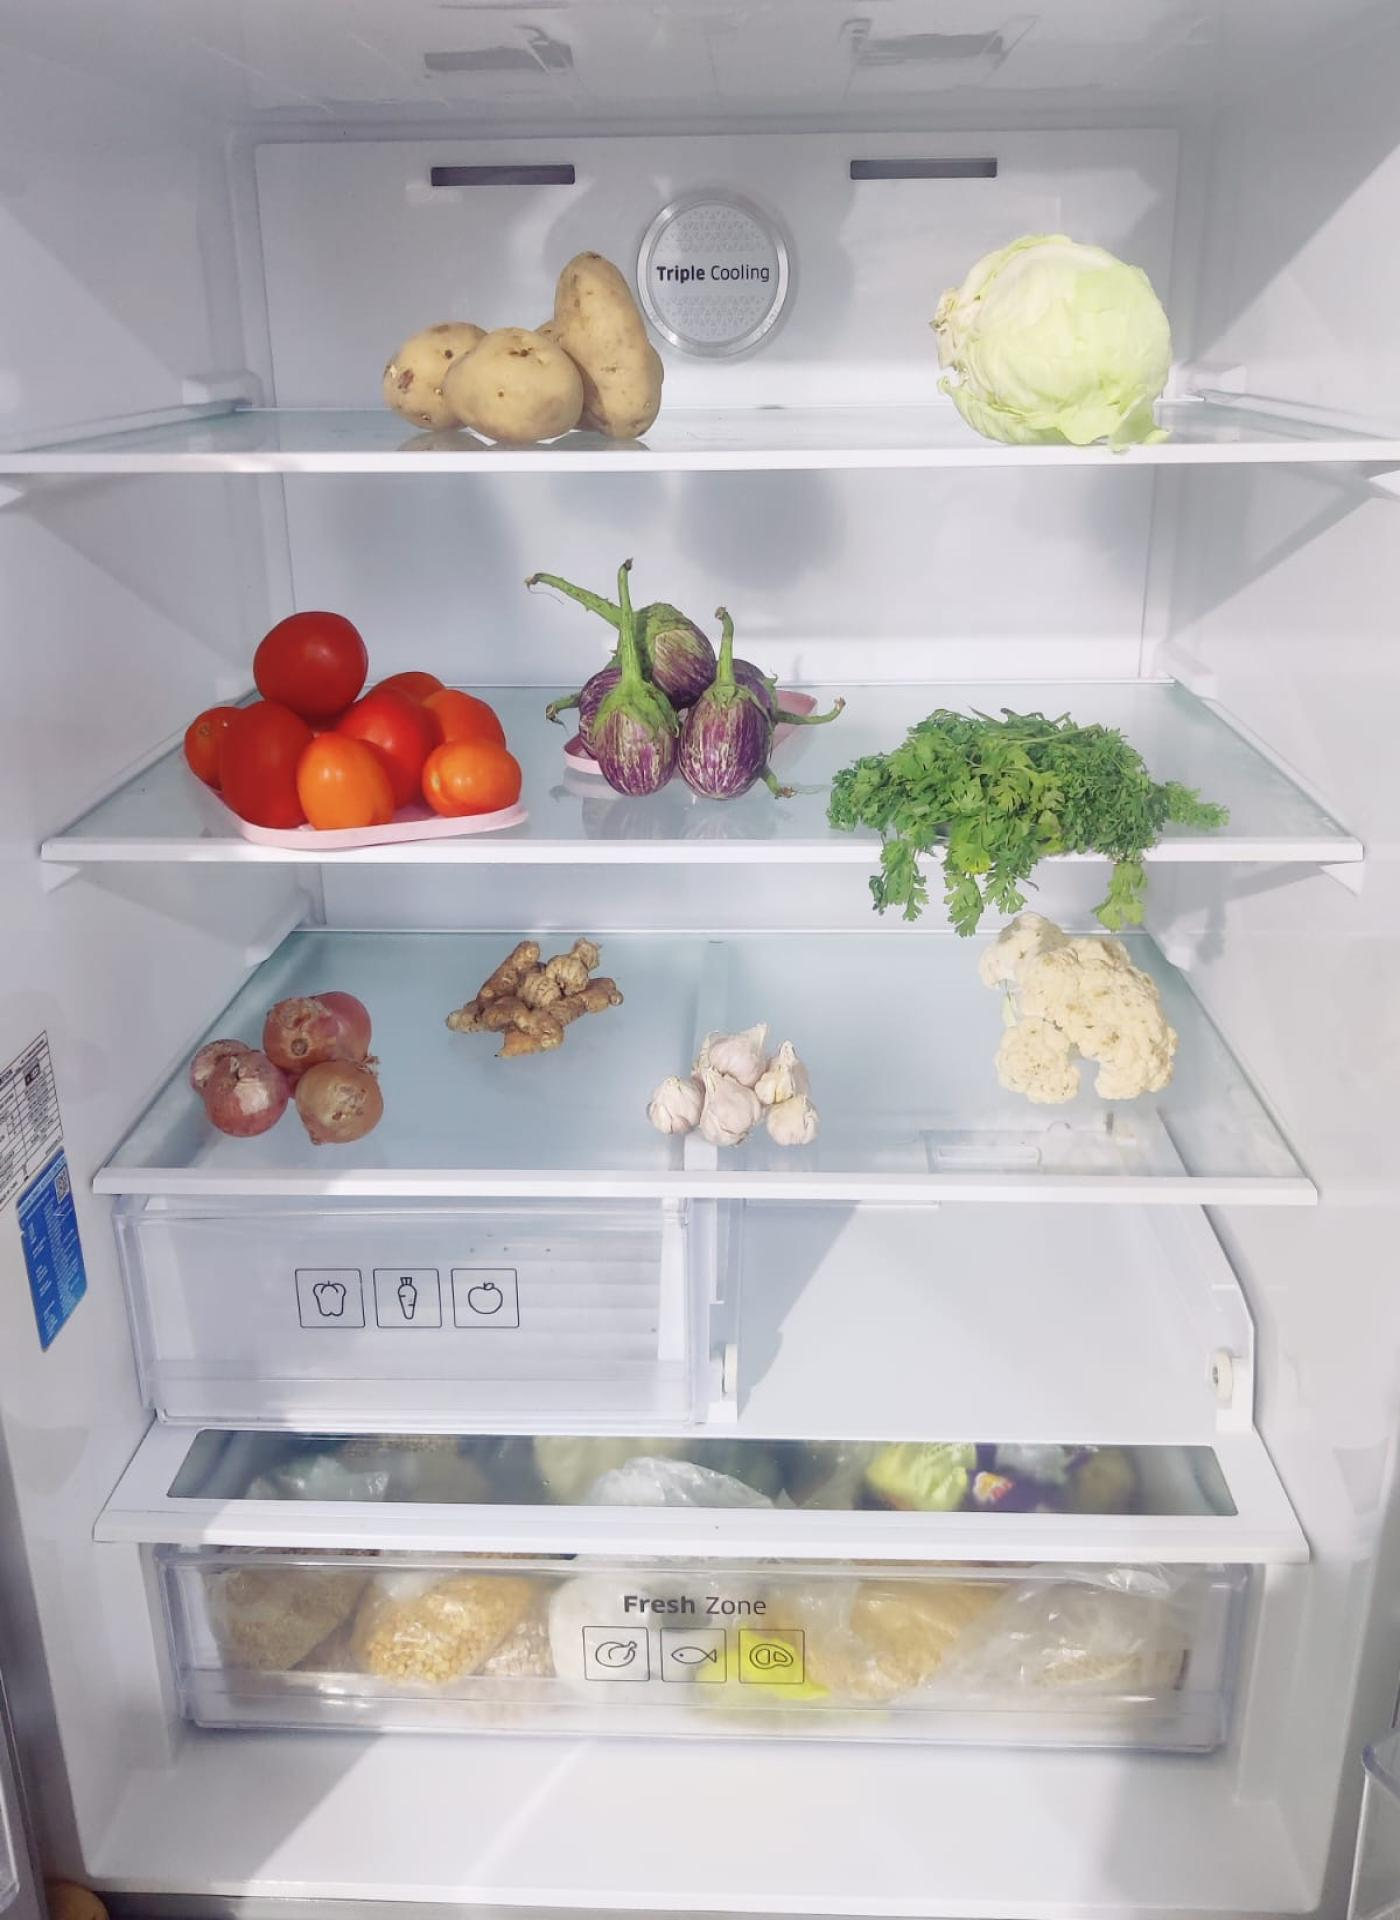brinjal: (571, 601, 784, 800)
cabbage: (938, 234, 1175, 447)
cauliflower: (990, 917, 1182, 1105)
coriander: (839, 711, 1199, 885)
garlic: (658, 1015, 824, 1146)
ginger: (449, 935, 623, 1051)
onion: (195, 990, 385, 1131)
potato: (379, 259, 660, 444)
tomato: (188, 602, 522, 823)
